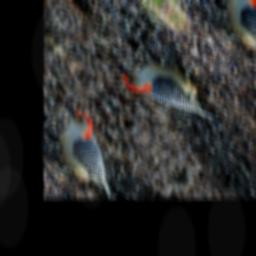Woodpecker: (109, 30, 231, 145)
